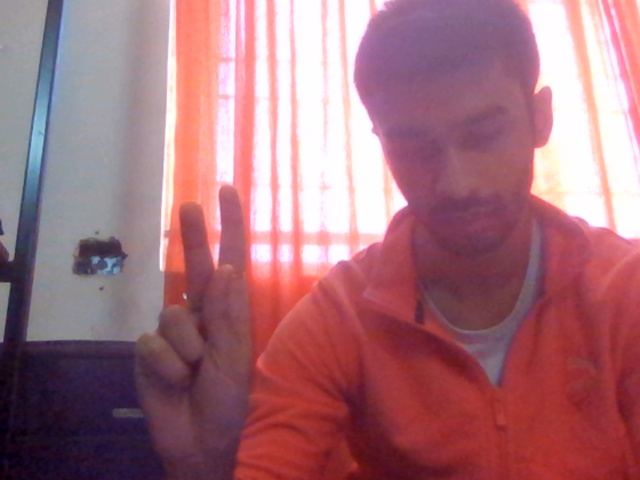K: (94, 169, 307, 480)
